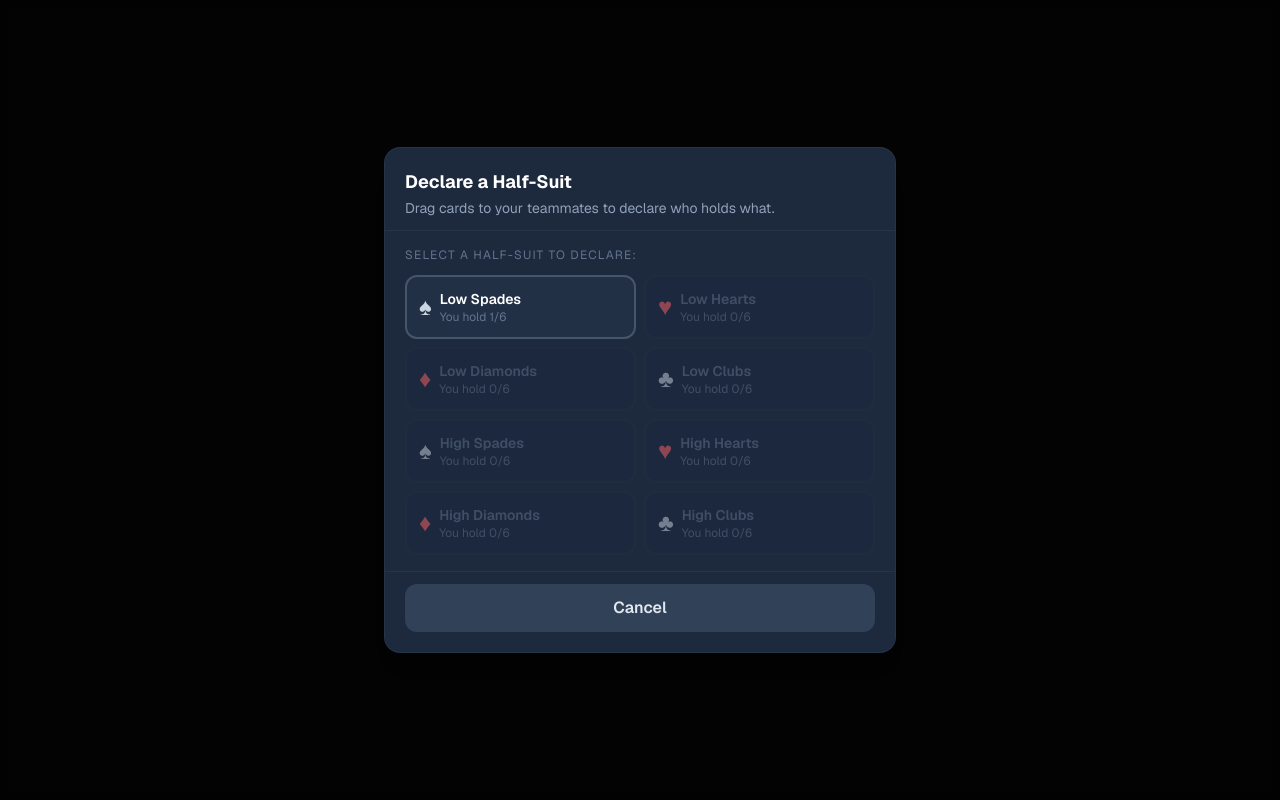
Test: DeclareModal — tap-to-assign › tapping a teammate zone after selecting a card assigns it
The image size is (1280, 800).
Click the button "♠ Low Spades You hold 1/6" at (520, 307), box x1=405 y1=275 x2=636 y2=339
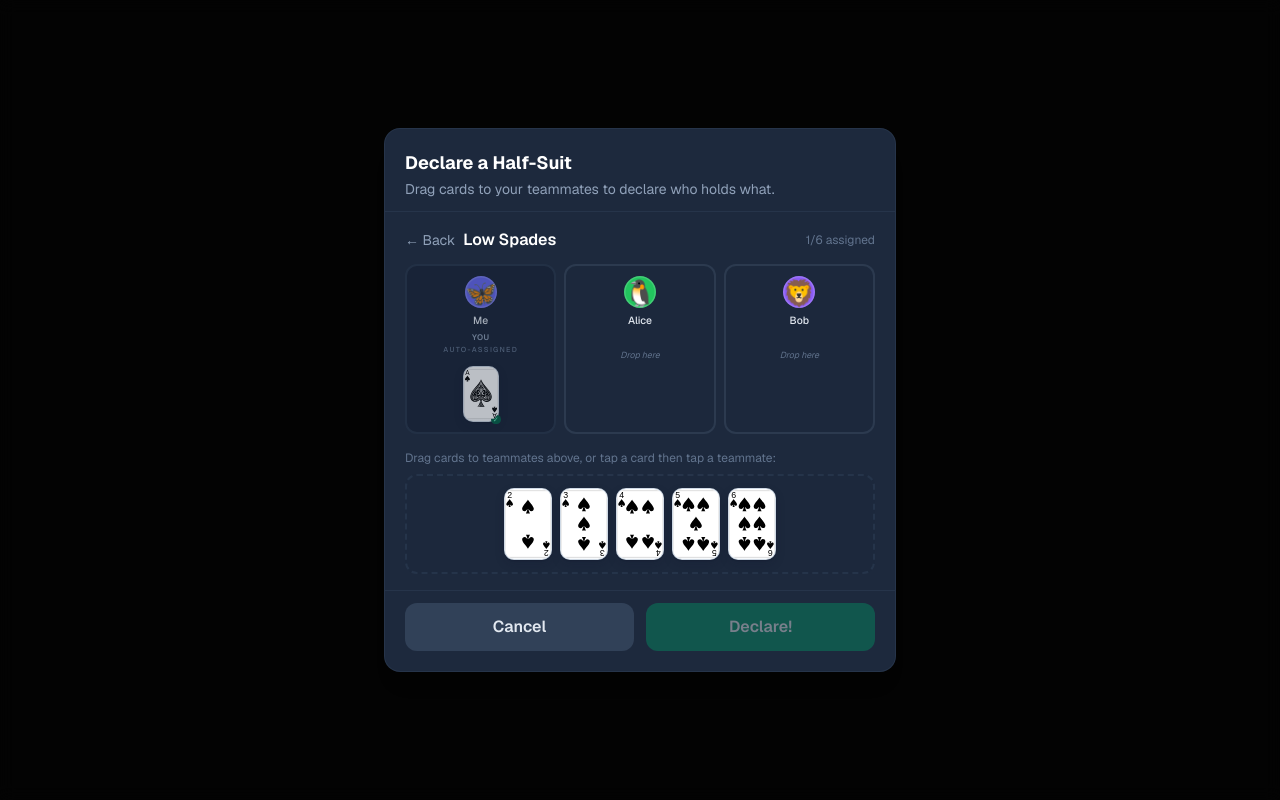
Click the button with test id "draggable-card" showing "2 ♠ ♠ 2 ♠" at (528, 524), box x1=504 y1=488 x2=552 y2=560
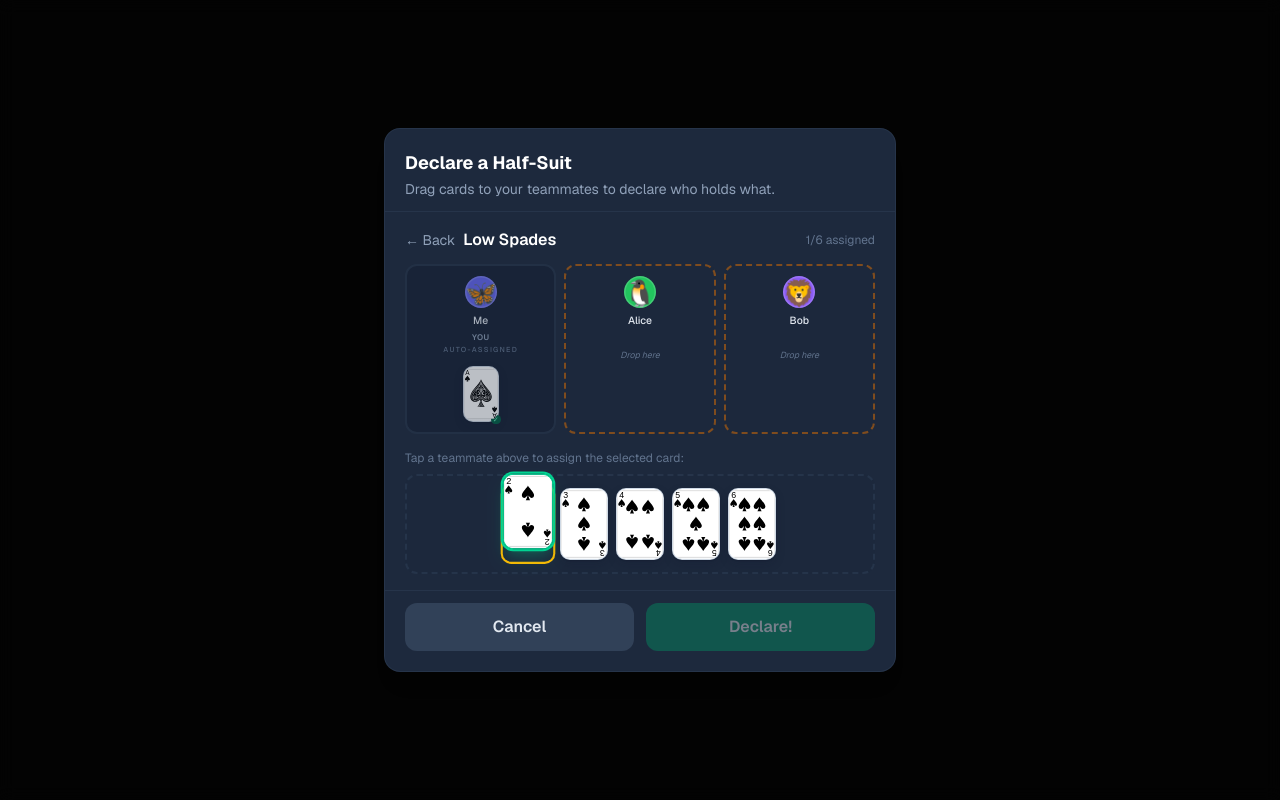
Click the element with test id "teammate-drop-zone" at (640, 349), box x1=564 y1=264 x2=716 y2=434
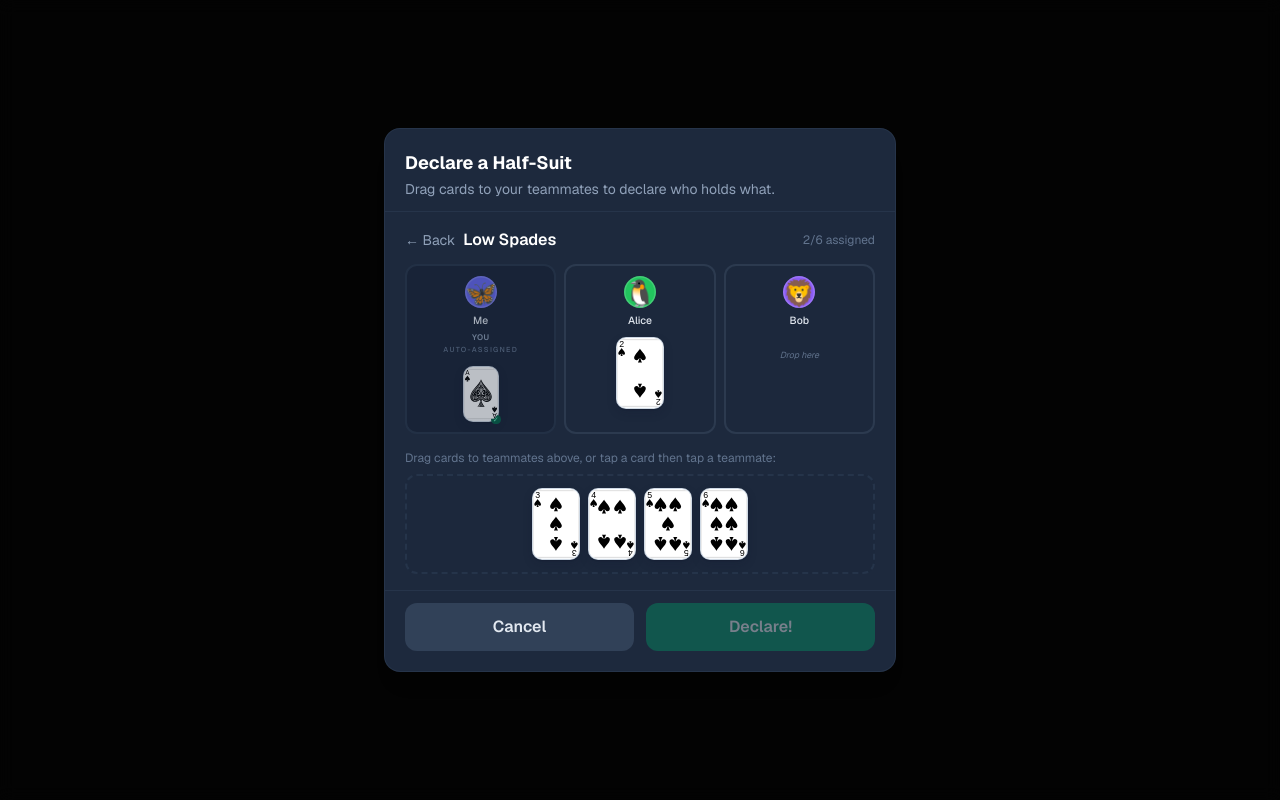
Now the text "2/6 assigned" is shown, box x1=803 y1=232 x2=875 y2=248
